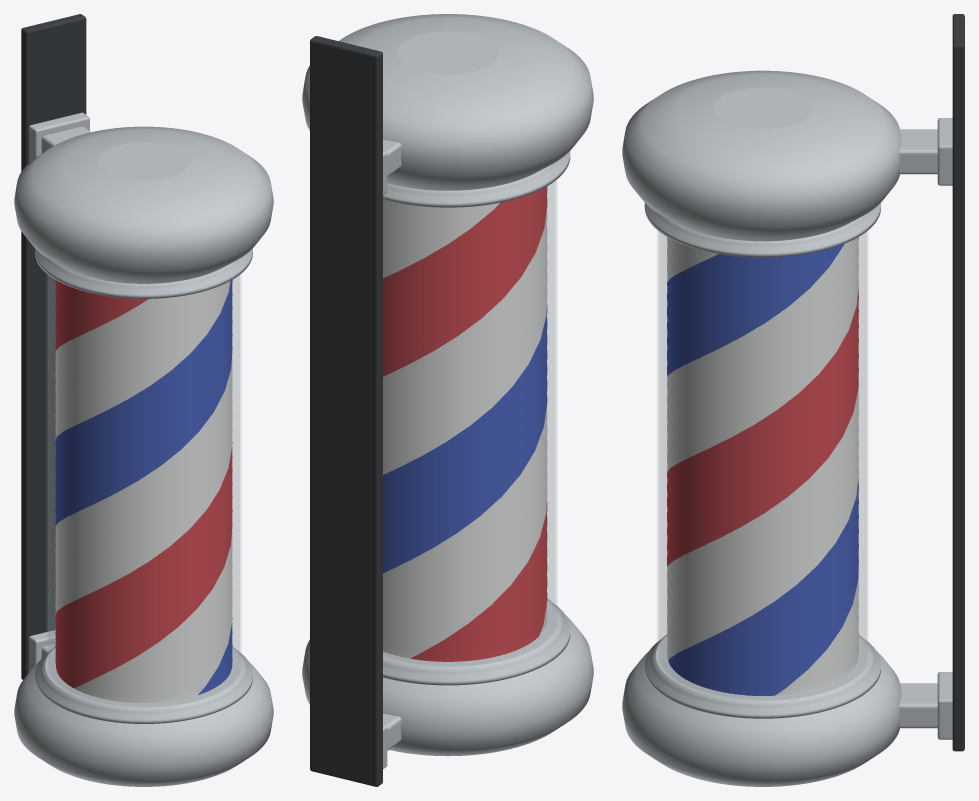
Rendered from full.glb.
The picture shows the model from 3 angles, left to right: view 1: azimuth 30°, elevation 25°; view 2: azimuth 150°, elevation 25°; view 3: azimuth 270°, elevation 25°; orthographic projection. The views are drawn at different scales.
Visible parts, largest first — view 1: Transparent protective sleeve, Own helical stripe drum, Upper rounded housing, Vertical wall mounting plate, Lower rounded housing, Lower stepped retaining collar, Upper stepped retaining collar, Upper plate mounting saddle, Lower plate mounting saddle, Upper rear support band; view 2: Transparent protective sleeve, Own helical stripe drum, Vertical wall mounting plate, Upper rounded housing, Lower rounded housing, Lower stepped retaining collar, Upper stepped retaining collar; view 3: Transparent protective sleeve, Own helical stripe drum, Upper rounded housing, Lower rounded housing, Vertical wall mounting plate, Lower stepped retaining collar, Upper stepped retaining collar, Lower rear support band, Upper rear support band, Lower plate mounting saddle, Upper plate mounting saddle.
Boxes of the visible parts, left/top/right/bottom form: Transparent protective sleeve: left=46, top=274, right=241, bottom=706; Own helical stripe drum: left=55, top=280, right=232, bottom=702; Upper rounded housing: left=14, top=126, right=273, bottom=283; Vertical wall mounting plate: left=21, top=14, right=86, bottom=679; Lower rounded housing: left=14, top=662, right=273, bottom=786; Lower stepped retaining collar: left=35, top=647, right=252, bottom=723; Upper stepped retaining collar: left=35, top=248, right=252, bottom=298; Upper plate mounting saddle: left=29, top=112, right=89, bottom=161; Lower plate mounting saddle: left=29, top=630, right=55, bottom=671; Upper rear support band: left=41, top=126, right=90, bottom=153; Transparent protective sleeve: left=383, top=180, right=557, bottom=665; Own helical stripe drum: left=383, top=186, right=547, bottom=661; Vertical wall mounting plate: left=310, top=36, right=382, bottom=786; Upper rounded housing: left=302, top=14, right=593, bottom=190; Lower rounded housing: left=302, top=615, right=593, bottom=756; Lower stepped retaining collar: left=383, top=598, right=570, bottom=685; Upper stepped retaining collar: left=383, top=151, right=570, bottom=207; Transparent protective sleeve: left=657, top=230, right=868, bottom=699; Own helical stripe drum: left=667, top=237, right=858, bottom=695; Upper rounded housing: left=622, top=70, right=901, bottom=241; Lower rounded housing: left=622, top=651, right=901, bottom=786; Vertical wall mounting plate: left=952, top=14, right=964, bottom=751; Lower stepped retaining collar: left=644, top=635, right=880, bottom=718; Upper stepped retaining collar: left=644, top=203, right=880, bottom=257; Lower rear support band: left=899, top=683, right=937, bottom=728; Upper rear support band: left=899, top=129, right=937, bottom=174; Lower plate mounting saddle: left=937, top=672, right=952, bottom=739; Upper plate mounting saddle: left=937, top=118, right=952, bottom=185.
Bounding box in the file's own units: 0.2286 × 0.6452 × 0.2783.
